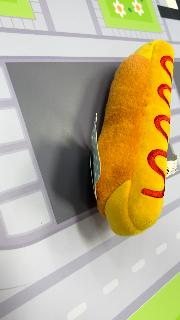hotdog: (94, 39, 176, 237)
